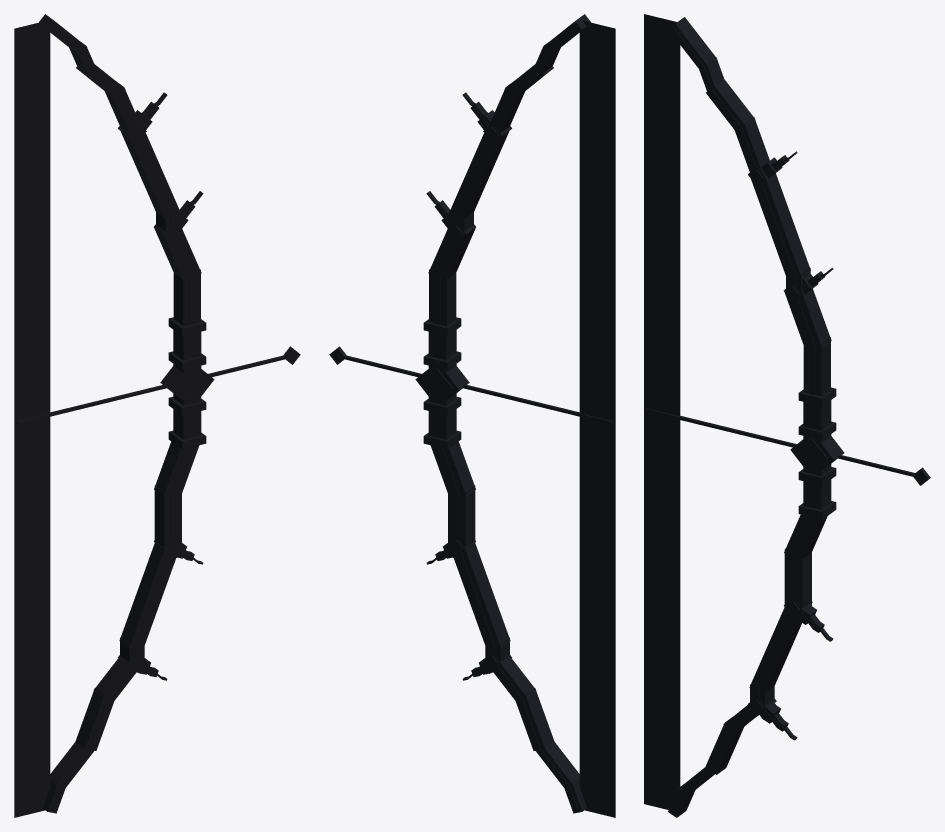
The model's file is requiem_shortbow_pulling_0_smooth.obj.
The picture shows the model from 3 angles, left to right: view 1: azimuth 30°, elevation 25°; view 2: azimuth 150°, elevation 25°; view 3: azimuth 330°, elevation 25°; orthographic projection.
Parts seen in each view (by area): view 1: requiem_shortbow_pulling_0; view 2: requiem_shortbow_pulling_0; view 3: requiem_shortbow_pulling_0.
Boxes of the visible parts, x1,y1,x2,y2 form: requiem_shortbow_pulling_0: [14, 14, 300, 817]; requiem_shortbow_pulling_0: [329, 14, 615, 817]; requiem_shortbow_pulling_0: [644, 14, 930, 817].
Size of the model in its own units: 0.8568 by 2.28 by 0.0717.
